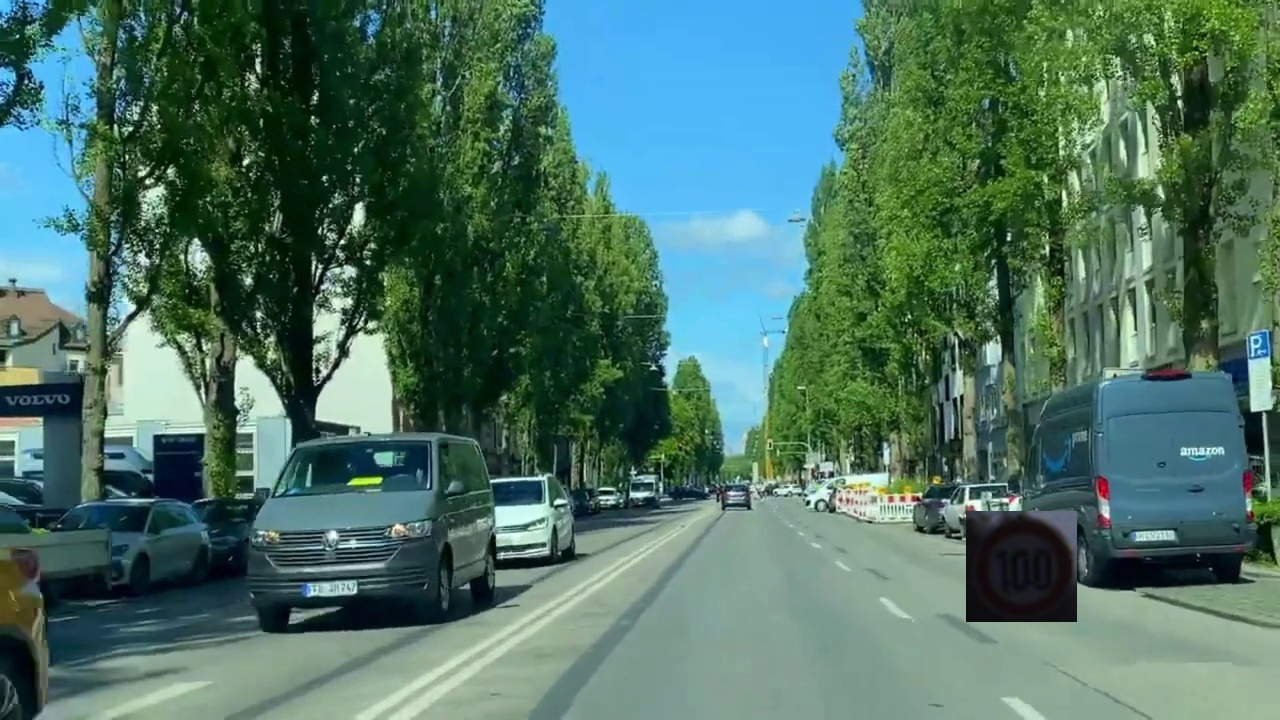Speed 100: (966, 511, 1077, 622)
